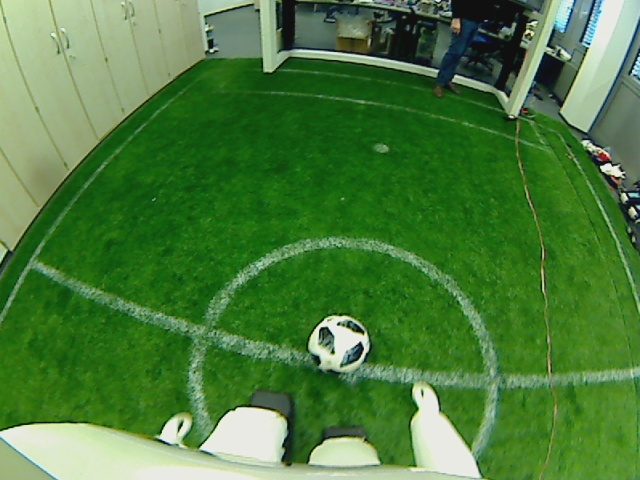ball: (307, 311, 370, 375)
